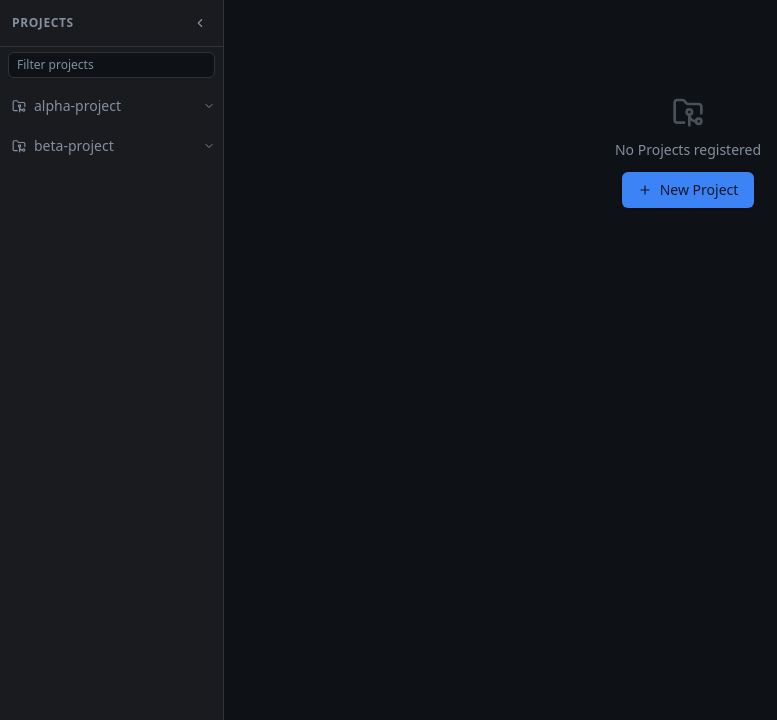
Test: RepoLayout project sidebar › filters Projects by a partial, case-insensitive name match
Expected: the text "alpha-project" is shown, [34,96,121,115]
Expected: the text "beta-project" is shown, [34,136,114,155]
Type "ALPHA" into the field labelled "Filter projects" at (112, 65), box [8,52,215,78]
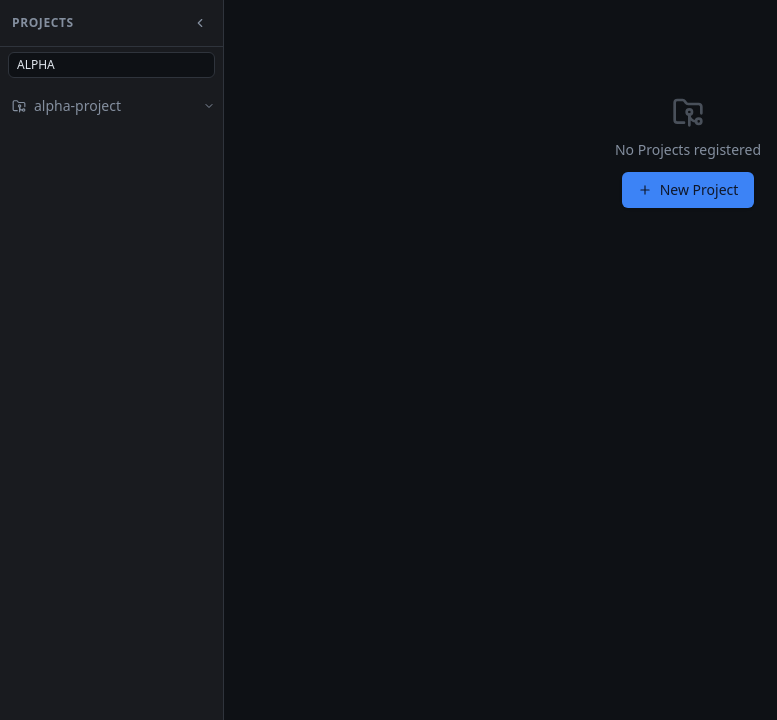
Expected: the text "alpha-project" is shown, [34,96,121,115]
Now the link "beta-project" is gone
